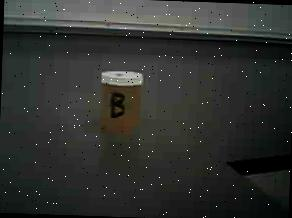Bottle B: (92, 65, 150, 139)
